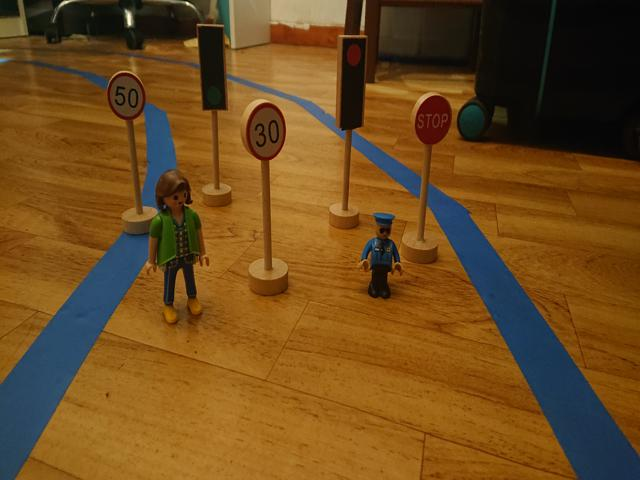30 speed sign: (245, 104, 286, 161)
50 speed sign: (103, 70, 149, 122)
green light: (200, 29, 225, 110)
person: (140, 170, 211, 326), (358, 211, 405, 302)
red light: (344, 36, 365, 126)
stop sign: (413, 96, 452, 145)
